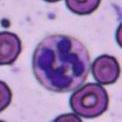N: (32, 34, 90, 92)
